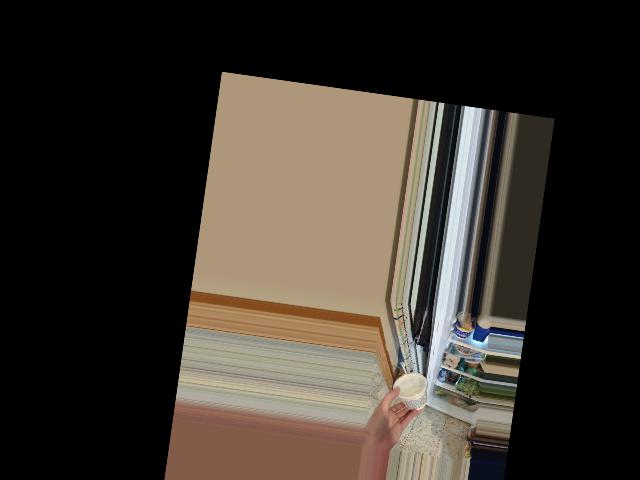cotage: (386, 370, 429, 414)
